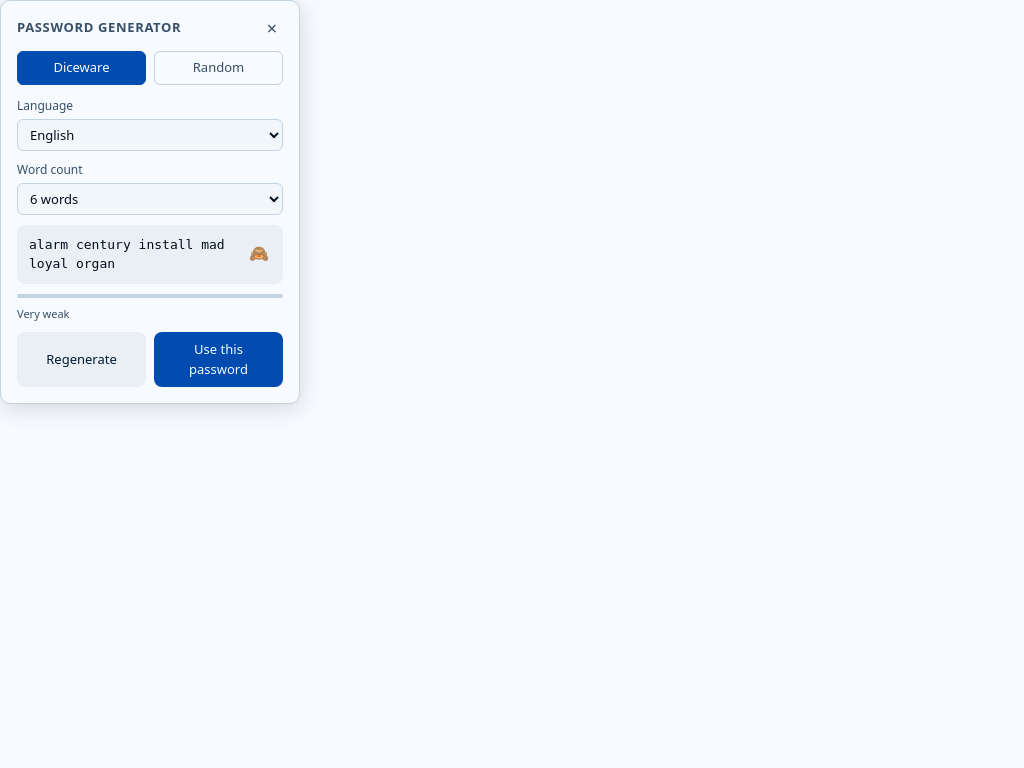
GeneratorPanel — 모드 전환 › Random 모드에서 체크박스 4개(a-z, A-Z, 0-9, !@#)가 있다
Click the button "Random".
click(218, 68)  # box [154,51,283,84]
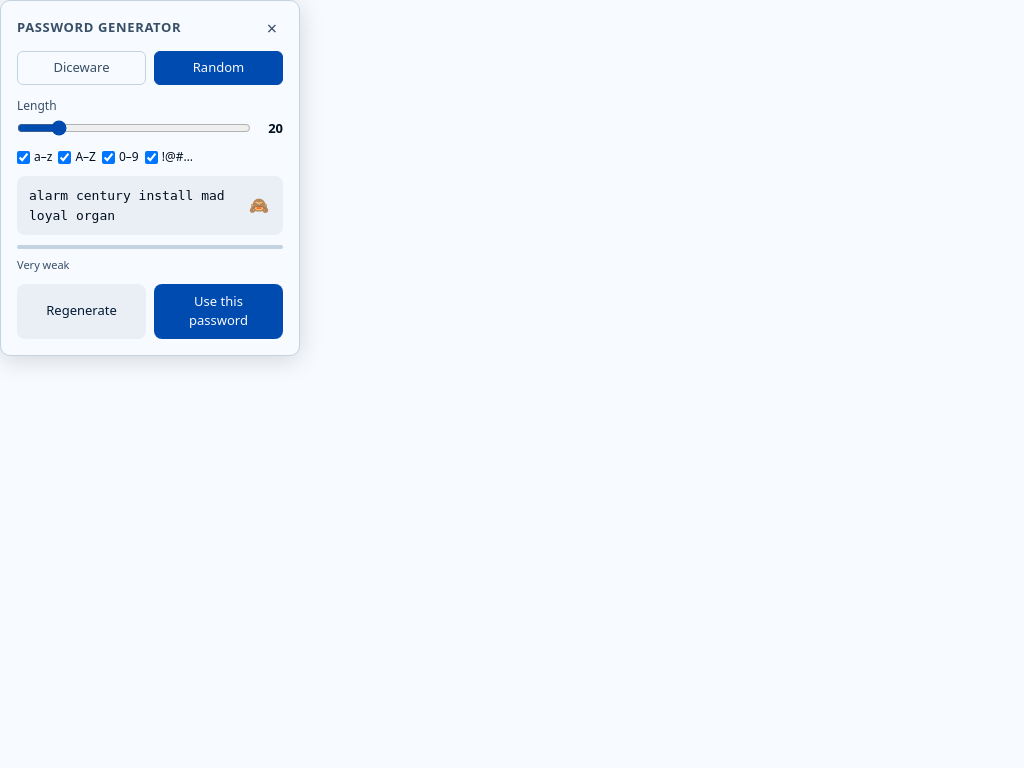
Expected: the number of checkboxes is 4, [17,150,30,164]; [58,150,71,164]; [102,150,115,164]; [145,150,158,164]
